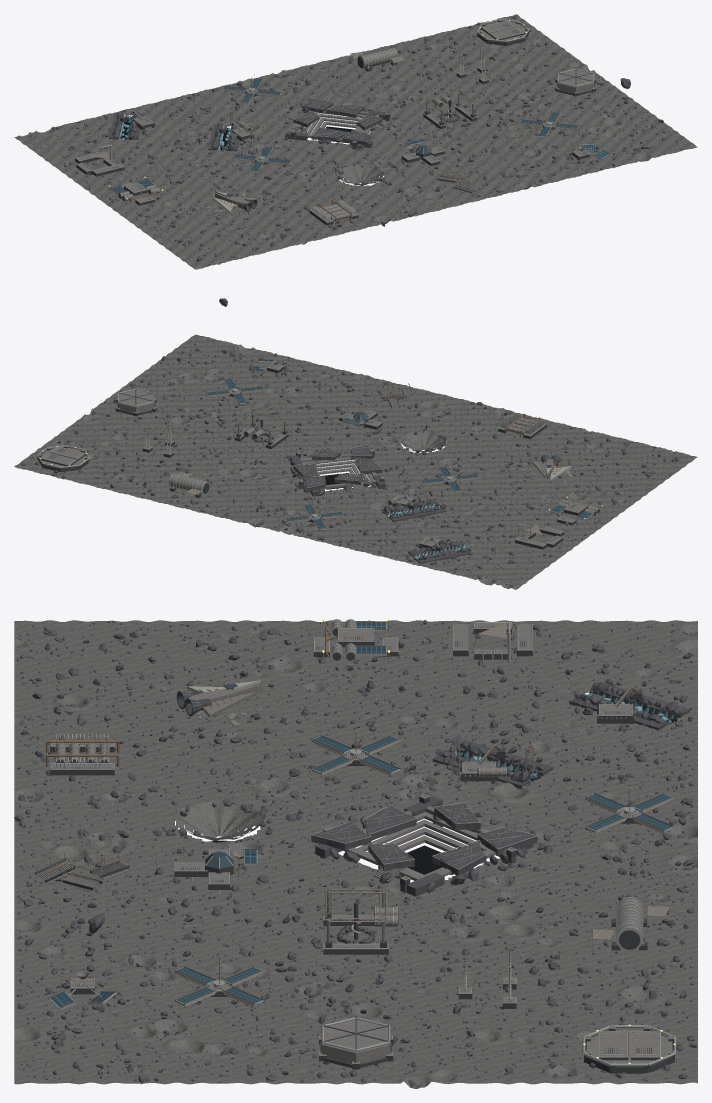
File: moon-map.glb
The picture shows the model from 3 angles, top to bottom: view 1: azimuth 30°, elevation 25°; view 2: azimuth 150°, elevation 25°; view 3: azimuth 270°, elevation 25°; orthographic projection. The views are drawn at different scales.
Visible parts, largest first — view 1: Regolith • editable solid geometry, Diamond architecture • editable solid geometry, drilling-platform • editable solid geometry, outpost-pod • editable solid geometry, landing-base • editable solid geometry, helium-extractor • editable solid geometry, abandoned-camp • editable solid geometry, Broken spaceplane • editable solid geometry, research-station • editable solid geometry, supply-station • editable solid geometry, Diagonal excavation.001 • editable solid geometry, Diagonal excavation • editable solid geometry (+2 smaller); view 2: Regolith • editable solid geometry, Diamond architecture • editable solid geometry, outpost-pod • editable solid geometry, drilling-platform • editable solid geometry, Diagonal excavation.001 • editable solid geometry, Diagonal excavation • editable solid geometry, helium-extractor • editable solid geometry, landing-base • editable solid geometry, supply-station • editable solid geometry, abandoned-camp • editable solid geometry, Broken spaceplane • editable solid geometry, landing-pad • editable solid geometry (+2 smaller); view 3: Regolith • editable solid geometry, Diamond architecture • editable solid geometry, outpost-pod • editable solid geometry, drilling-platform • editable solid geometry, landing-base • editable solid geometry, helium-extractor • editable solid geometry, Diagonal excavation • editable solid geometry, landing-pad • editable solid geometry, Broken spaceplane • editable solid geometry, Diagonal excavation.001 • editable solid geometry, abandoned-camp • editable solid geometry, supply-station • editable solid geometry (+9 smaller).
Boxes of the visible parts, box(x1,y1,x2,y2) form: Regolith • editable solid geometry: box(14, 14, 697, 269); Diamond architecture • editable solid geometry: box(285, 97, 390, 149); drilling-platform • editable solid geometry: box(423, 91, 477, 129); outpost-pod • editable solid geometry: box(555, 68, 596, 96); landing-base • editable solid geometry: box(109, 177, 162, 205); helium-extractor • editable solid geometry: box(309, 188, 358, 225); abandoned-camp • editable solid geometry: box(350, 47, 405, 71); Broken spaceplane • editable solid geometry: box(204, 191, 259, 215); research-station • editable solid geometry: box(402, 131, 445, 166); supply-station • editable solid geometry: box(75, 151, 124, 176); Diagonal excavation.001 • editable solid geometry: box(208, 121, 241, 151); Diagonal excavation • editable solid geometry: box(109, 111, 143, 139); Regolith • editable solid geometry: box(14, 334, 697, 589); Diamond architecture • editable solid geometry: box(290, 444, 385, 496); outpost-pod • editable solid geometry: box(115, 388, 156, 416); drilling-platform • editable solid geometry: box(234, 411, 288, 448); Diagonal excavation.001 • editable solid geometry: box(381, 498, 446, 522); Diagonal excavation • editable solid geometry: box(408, 540, 472, 564); helium-extractor • editable solid geometry: box(498, 410, 547, 439); landing-base • editable solid geometry: box(549, 496, 602, 525); supply-station • editable solid geometry: box(515, 524, 564, 549); abandoned-camp • editable solid geometry: box(169, 471, 209, 502); Broken spaceplane • editable solid geometry: box(522, 454, 573, 484); landing-pad • editable solid geometry: box(37, 445, 89, 471); Regolith • editable solid geometry: box(14, 620, 697, 1088); Diamond architecture • editable solid geometry: box(311, 794, 537, 896); outpost-pod • editable solid geometry: box(319, 1017, 393, 1069); drilling-platform • editable solid geometry: box(323, 889, 398, 954); landing-base • editable solid geometry: box(313, 618, 398, 663); helium-extractor • editable solid geometry: box(46, 732, 119, 775); Diagonal excavation • editable solid geometry: box(569, 682, 689, 730); landing-pad • editable solid geometry: box(582, 1024, 676, 1073); Broken spaceplane • editable solid geometry: box(176, 680, 263, 726); Diagonal excavation.001 • editable solid geometry: box(432, 734, 553, 788); abandoned-camp • editable solid geometry: box(592, 897, 669, 953); supply-station • editable solid geometry: box(453, 622, 532, 659).
Size of the model in its own units: 80 by 11.68 by 50.02.
15 materials, 3 textured.
